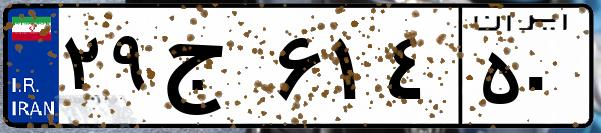0: (525, 38, 570, 115)
1: (330, 28, 385, 110)
2: (57, 26, 110, 100)
4: (385, 28, 445, 110)
5: (475, 38, 525, 113)
6: (270, 28, 330, 110)
9: (110, 28, 158, 98)
ج: (158, 20, 270, 120)
